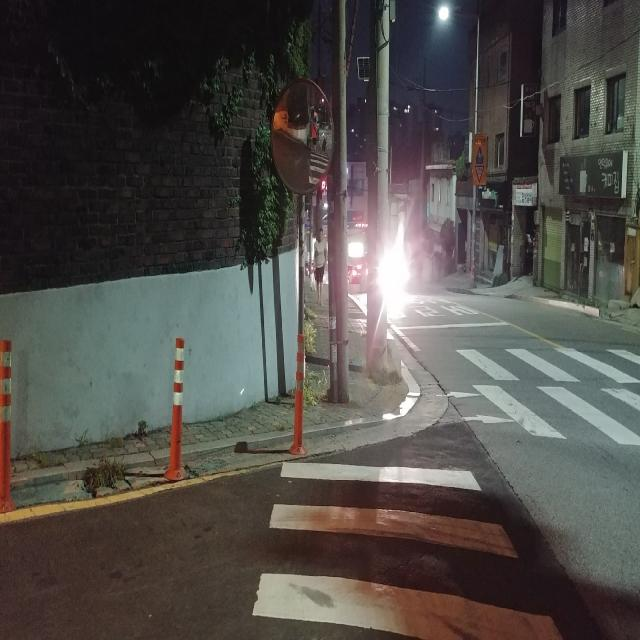횡단보도: (250, 455, 568, 640), (422, 328, 640, 455)
